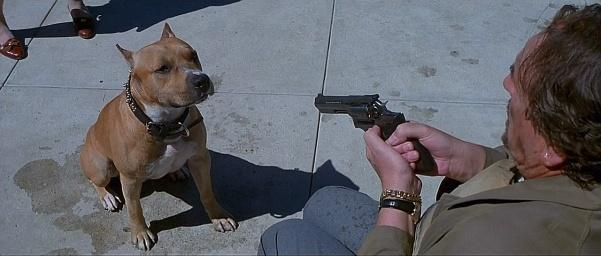Gun: (314, 92, 433, 175)
